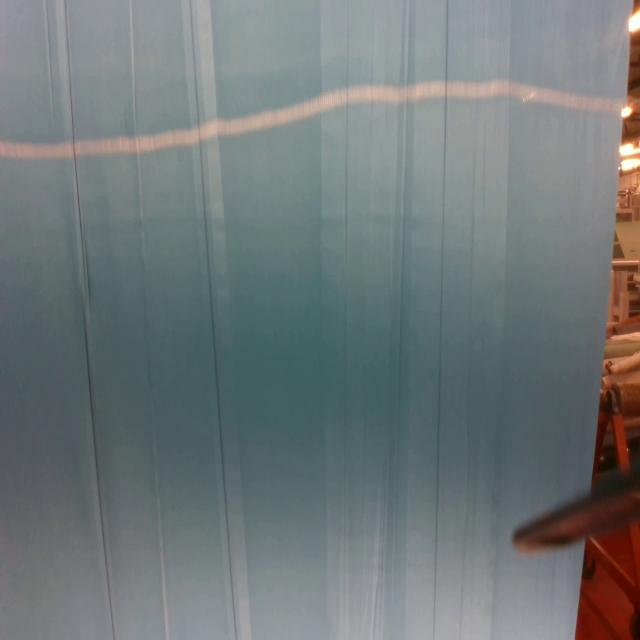crease: (185, 0, 250, 638), (64, 0, 116, 640), (371, 2, 416, 640), (130, 0, 169, 640), (431, 0, 453, 640), (340, 0, 351, 640), (44, 0, 56, 133)
